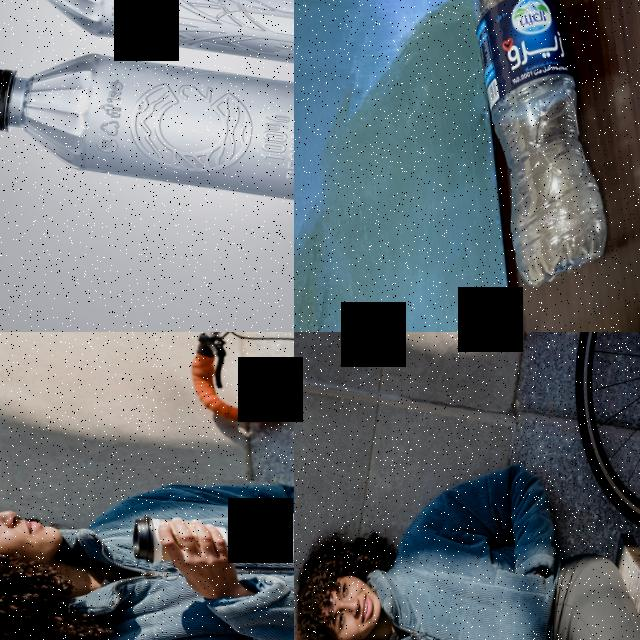bottle: (421, 0, 640, 295), (0, 34, 294, 233), (0, 0, 294, 101)
cup: (130, 509, 233, 574)
